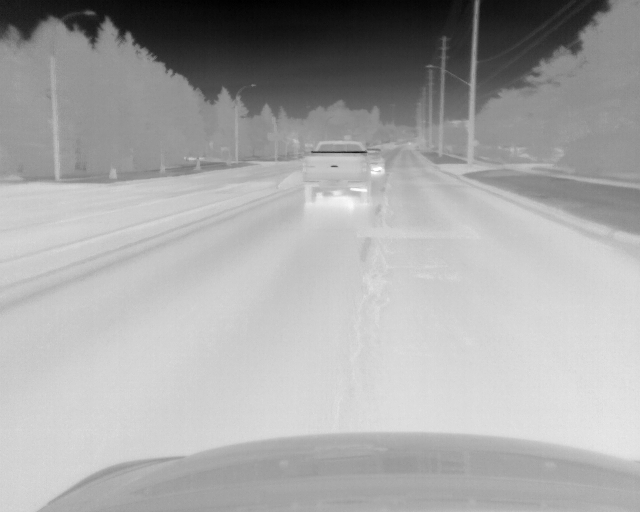car: (300, 140, 373, 210), (367, 148, 386, 178)
